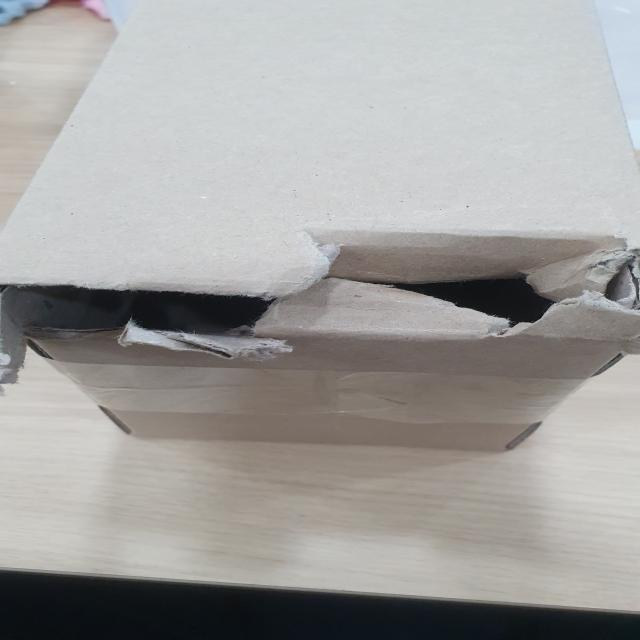hole: (14, 223, 640, 369)
